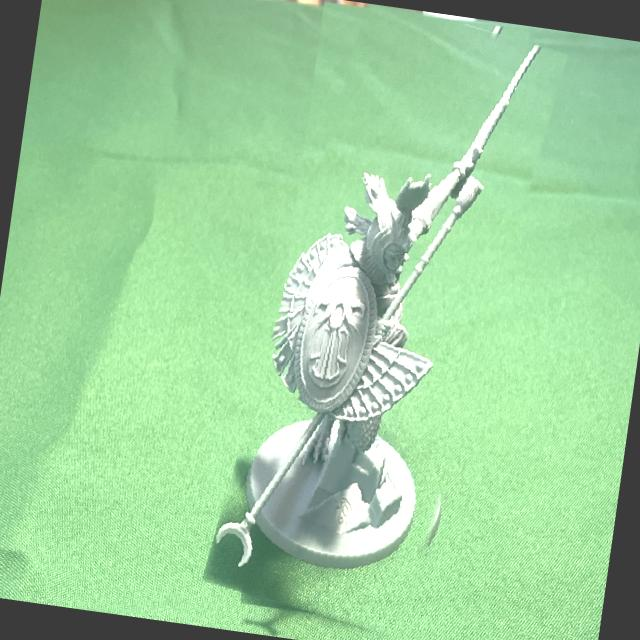isis: (218, 0, 550, 640)
